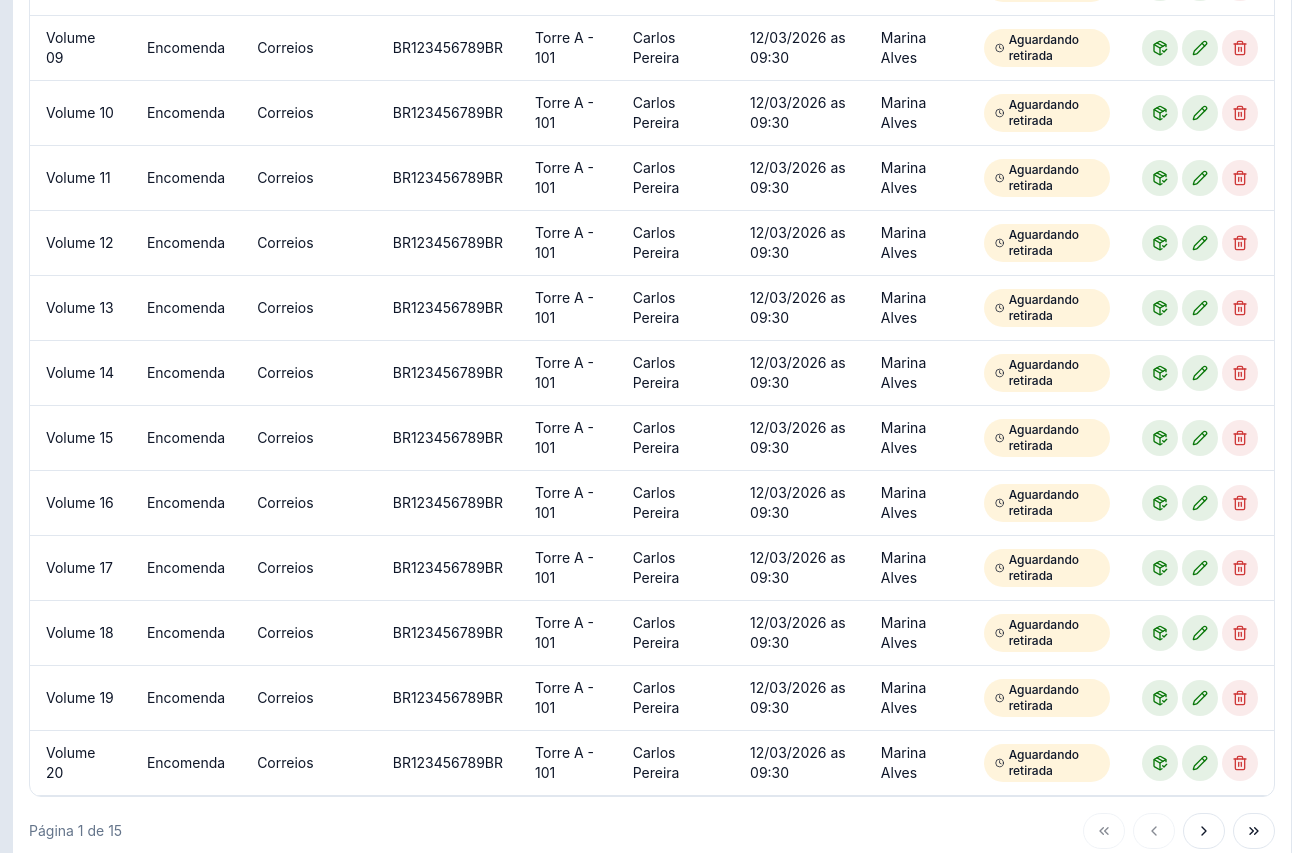
Test: Listagem de correspondências › trezentas correspondências paginam no tamanho pedido
This screenshot has width=1292, height=853.
(page scrolled)
Step 1. Click the button named "Próxima página" → {"x": 1204, "y": 831}, box [1183,813,1225,849]
(page scrolled)
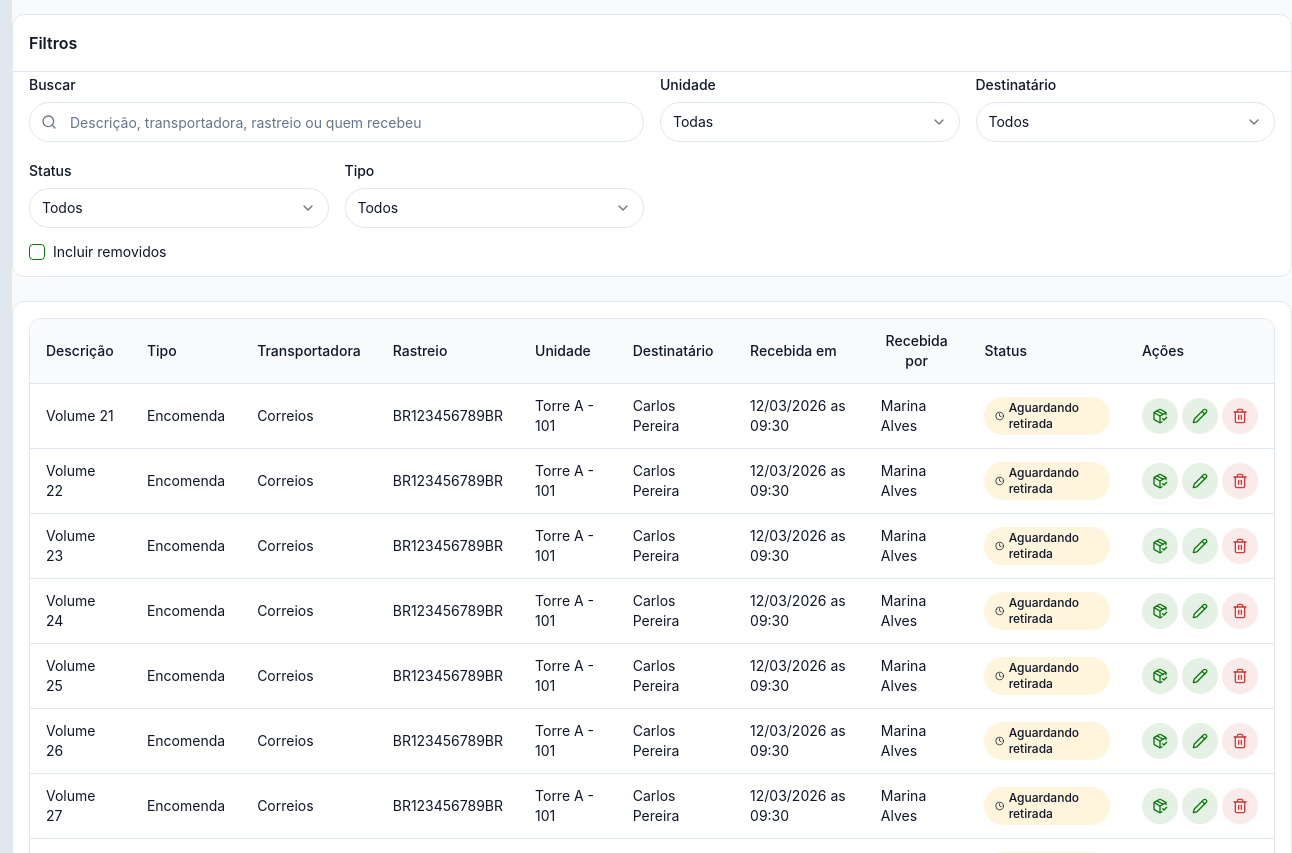
Result: the text "Volume 21" is shown at [46,406,114,426]
